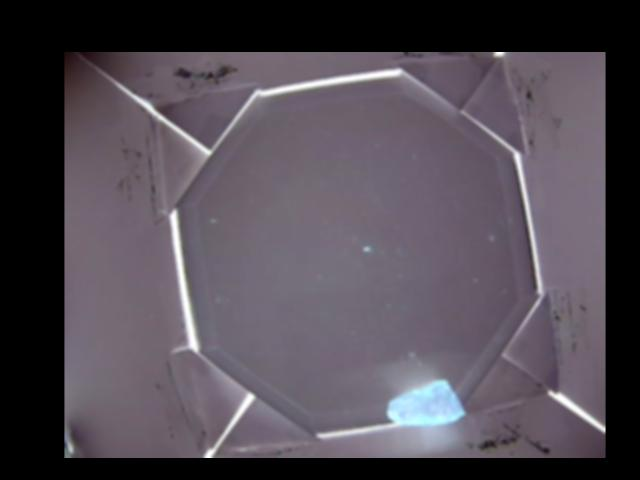Brisk: (389, 380, 463, 424)
